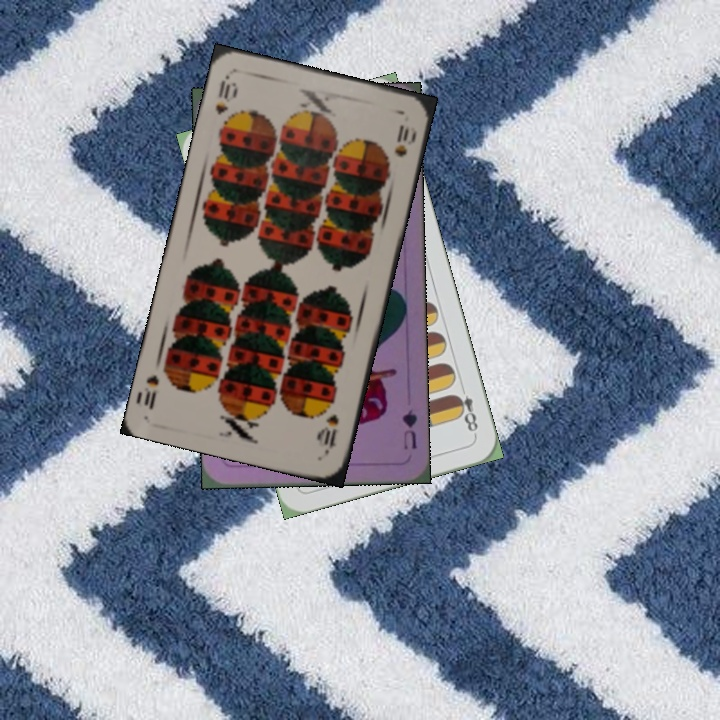E8: (449, 380, 481, 439)
GU: (398, 405, 420, 452)
S10: (211, 72, 240, 117), (316, 410, 342, 456)
